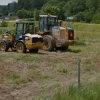Tractor: (6, 10, 77, 62)
